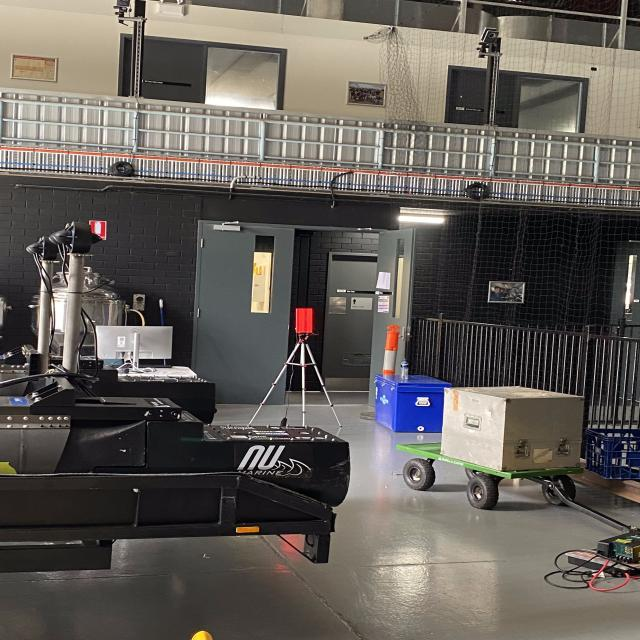matrix: (293, 306, 313, 335)
